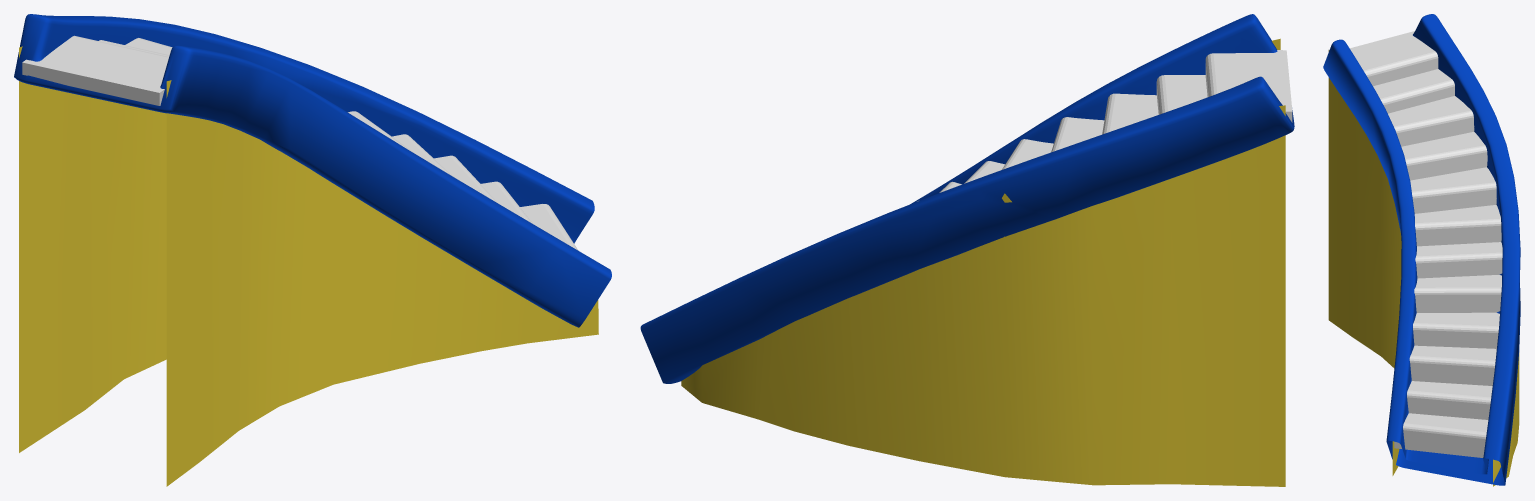
File: SM_HUB_Stairs_Left.fbx
3 renders of one model, left to right at view 1: azimuth 30°, elevation 25°; view 2: azimuth 150°, elevation 25°; view 3: azimuth 270°, elevation 25°, orthographic. The views are drawn at different scales.
Parts seen in each view (by area): view 1: SM_HUB_Stairs_Left; view 2: SM_HUB_Stairs_Left; view 3: SM_HUB_Stairs_Left.
Part boxes in pixels (x1,y1,x2,y2): SM_HUB_Stairs_Left: [14, 14, 611, 486]; SM_HUB_Stairs_Left: [640, 14, 1294, 486]; SM_HUB_Stairs_Left: [1323, 14, 1520, 486].
Bounding box in the file's own units: 1482 × 958 × 597.
